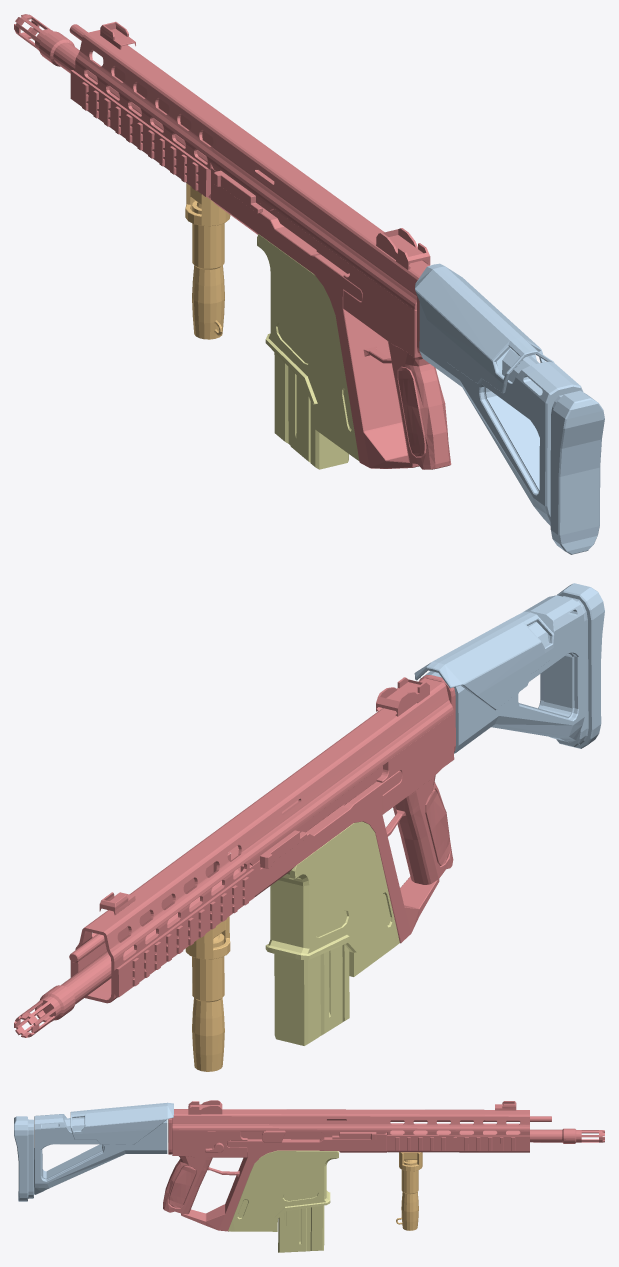
Rendered from 95301_assembly.glb.
3 views of the same model, one above another, from view 1: azimuth 30°, elevation 25°; view 2: azimuth 150°, elevation 25°; view 3: azimuth 270°, elevation 25° (orthographic). The views are drawn at different scales.
Visible parts, largest first — view 1: part_00, part_03, part_02, part_01; view 2: part_00, part_02, part_03, part_01; view 3: part_00, part_03, part_02, part_01.
Boxes of the visible parts, x1=… form: part_00: x1=14, y1=14, x2=451, y2=469; part_03: x1=415, y1=263, x2=604, y2=554; part_02: x1=257, y1=234, x2=359, y2=469; part_01: x1=185, y1=183, x2=230, y2=339; part_00: x1=14, y1=675, x2=455, y2=1037; part_02: x1=265, y1=821, x2=399, y2=1045; part_03: x1=414, y1=583, x2=604, y2=753; part_01: x1=185, y1=916, x2=230, y2=1071; part_00: x1=163, y1=1100, x2=604, y2=1231; part_03: x1=14, y1=1102, x2=173, y2=1201; part_02: x1=228, y1=1150, x2=339, y2=1252; part_01: x1=396, y1=1152, x2=422, y2=1230.
Size of the model in its own units: 0.0819 by 0.3697 by 1.35.
